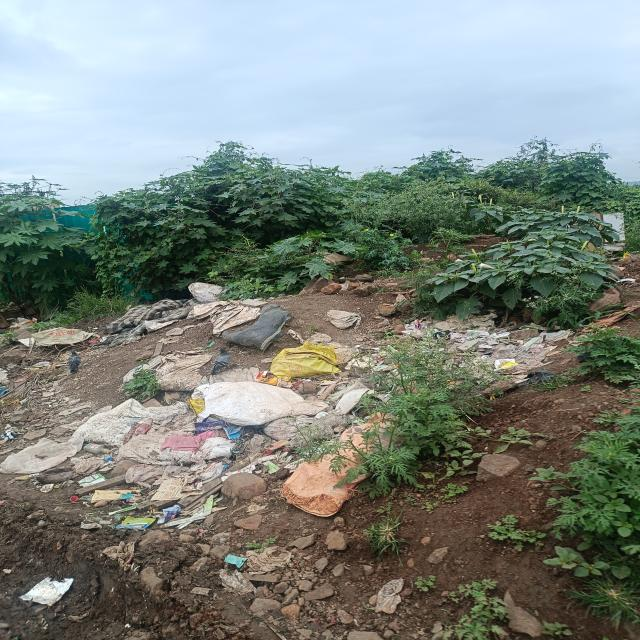garbage: (58, 358, 434, 517), (15, 288, 295, 356)
